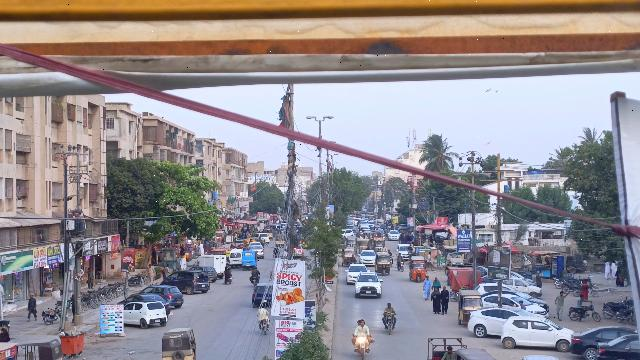Bike: (568, 306, 600, 324), (355, 333, 369, 360), (383, 313, 397, 337), (259, 317, 271, 337), (224, 272, 234, 286), (250, 275, 260, 289)
Car: (498, 315, 573, 352), (566, 326, 627, 358), (465, 307, 529, 337), (123, 301, 167, 332), (161, 269, 210, 296), (596, 333, 640, 360), (144, 284, 185, 308), (353, 270, 383, 299), (249, 283, 274, 310), (344, 263, 370, 285)
Person: (552, 290, 569, 321), (428, 286, 443, 316), (26, 292, 38, 324), (353, 318, 371, 339), (421, 275, 433, 301), (441, 285, 451, 315), (255, 303, 270, 321), (576, 294, 589, 312), (441, 346, 455, 360), (384, 300, 394, 318), (430, 275, 441, 288), (224, 263, 229, 285), (251, 266, 258, 277)
Rickshaw: (159, 327, 198, 360), (456, 289, 483, 327), (407, 255, 428, 283), (241, 249, 258, 271), (375, 252, 391, 275)
Truck: (196, 254, 228, 277)
